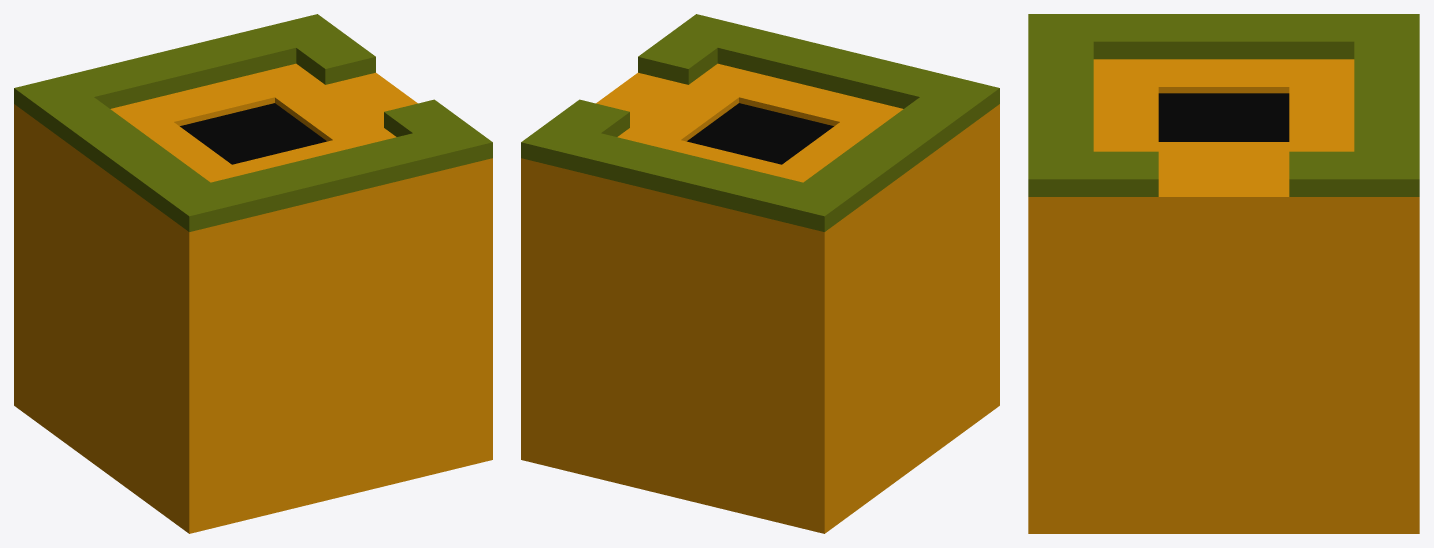
The model's file is FarmEndCube.fbx.
The picture shows the model from 3 angles, left to right: view 1: azimuth 30°, elevation 25°; view 2: azimuth 150°, elevation 25°; view 3: azimuth 270°, elevation 25°; orthographic projection. The views are drawn at different scales.
Parts seen in each view (by area): view 1: FarmEndCube; view 2: FarmEndCube; view 3: FarmEndCube.
Boxes of the visible parts, box(x1,y1,x2,y2) form: FarmEndCube: box(14, 14, 492, 533); FarmEndCube: box(521, 14, 999, 533); FarmEndCube: box(1028, 14, 1419, 533).
Size of the model in its own units: 1 by 1 by 1.
